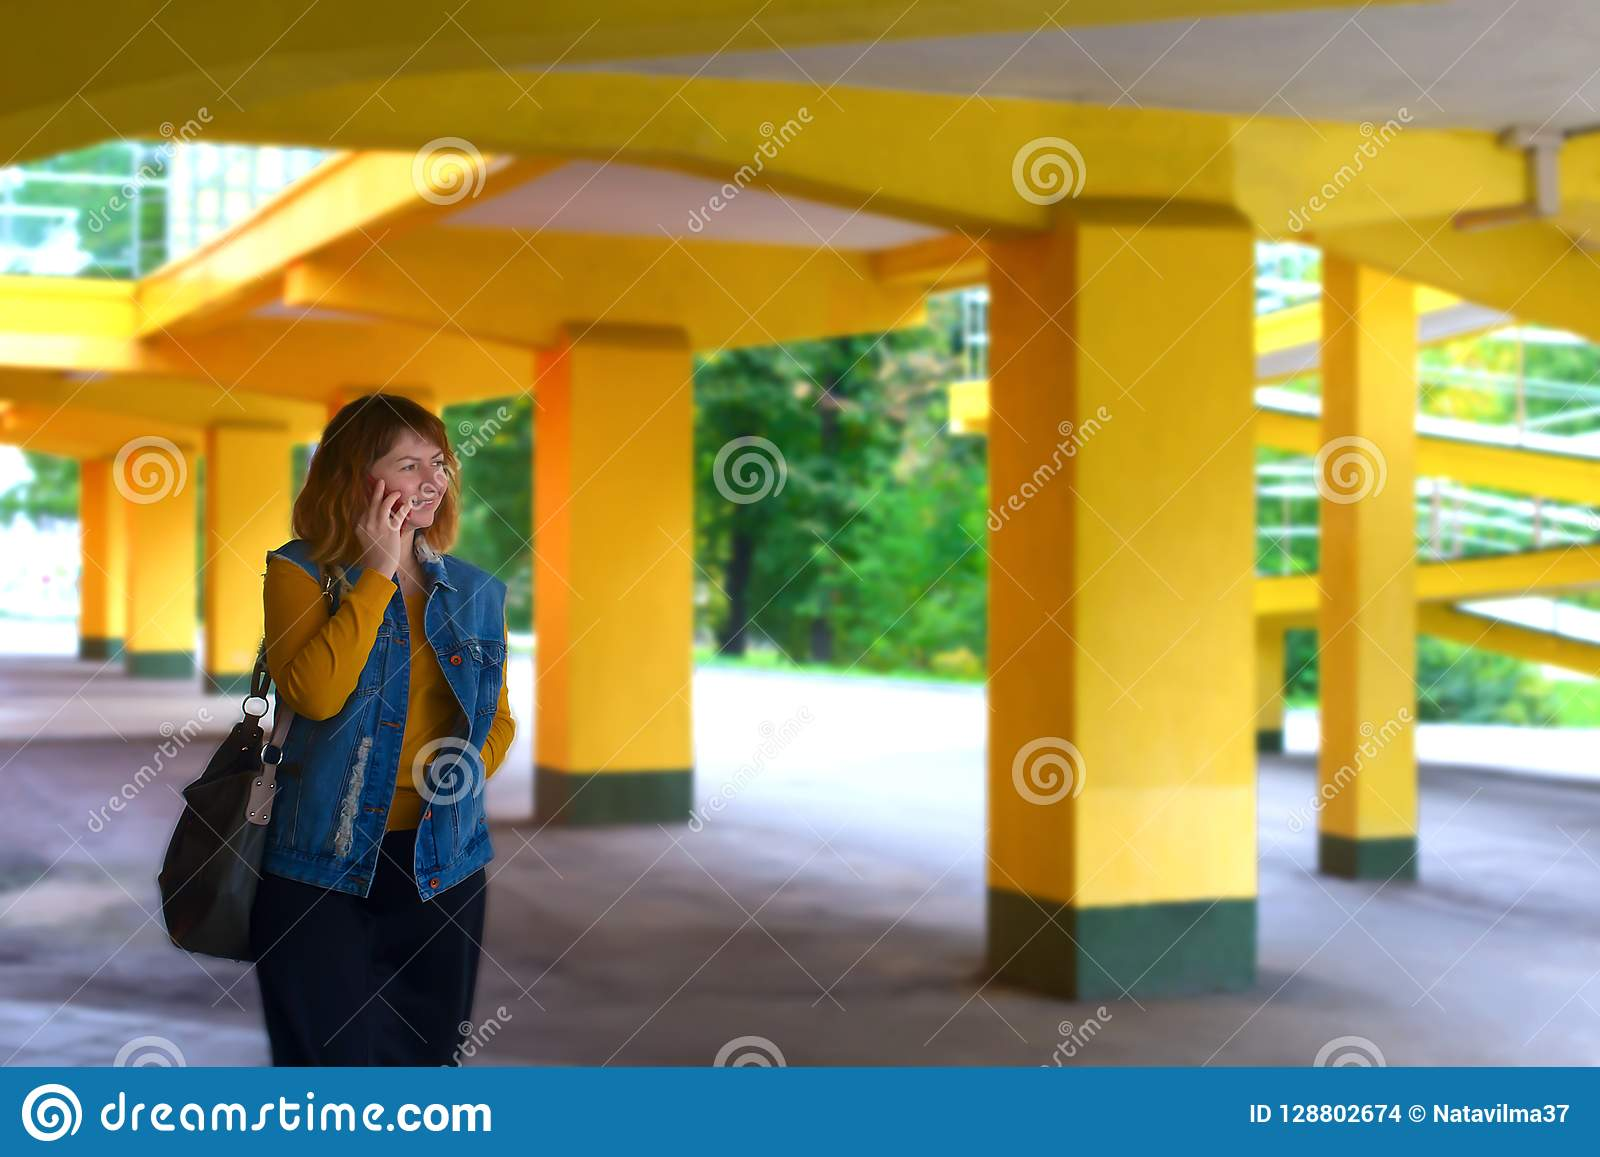phone: (359, 467, 414, 536)
talk: (352, 444, 450, 572)
